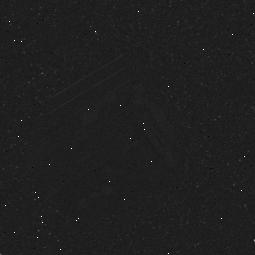proba_2: (39, 69, 188, 196)
